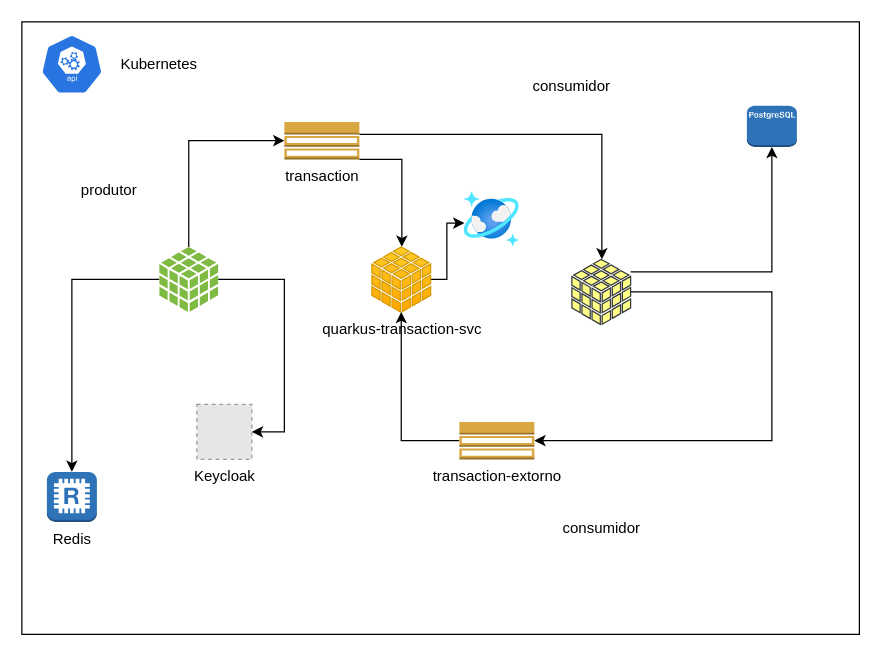
Image size: 881x656. Some labels were removed from this diagram. Grey dashed boxes stand in for pictures. Each missing label, with the centre of its shape:
mongodb: pixel 491 218
quarkus-limites-svc: pixel 601 291
quarkus-transaction-bff: pixel 188 278
